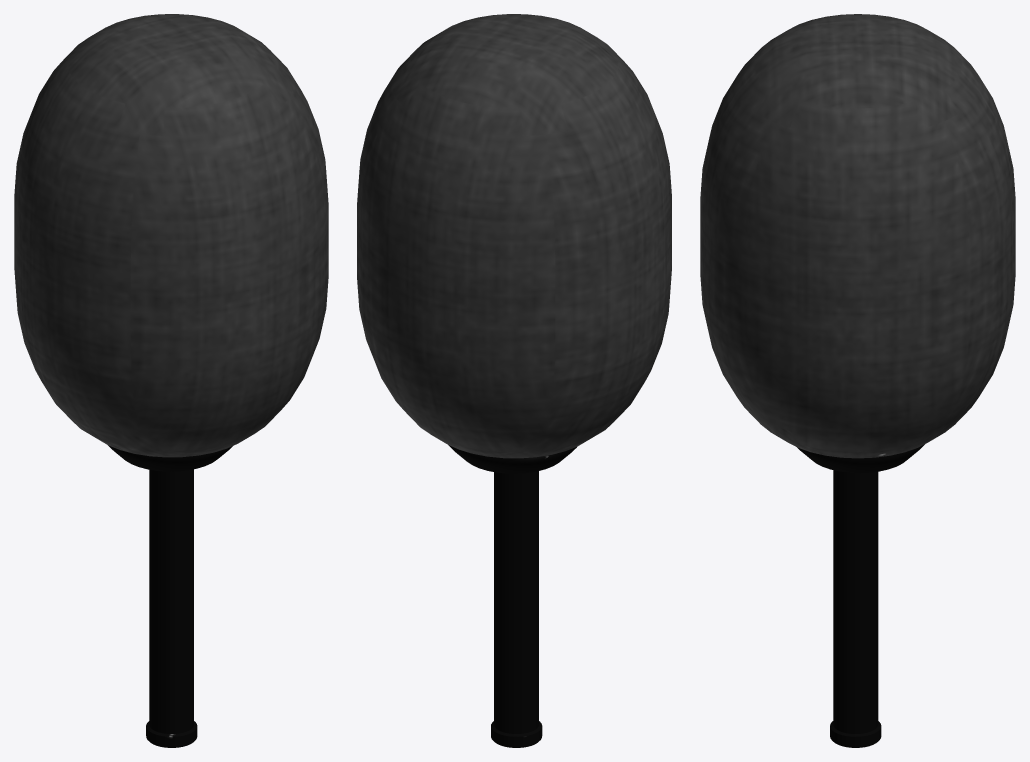
The model's file is martell.fbx.
The picture shows the model from 3 angles, left to right: view 1: azimuth 30°, elevation 25°; view 2: azimuth 150°, elevation 25°; view 3: azimuth 270°, elevation 25°; orthographic projection.
Visible parts, largest first — view 1: martell; view 2: martell; view 3: martell.
Boxes of the visible parts, box(x1,y1,x2,y2) form: martell: box(14, 14, 328, 747); martell: box(357, 14, 671, 747); martell: box(700, 14, 1015, 747).
Size of the model in its own units: 121 by 297 by 121.
